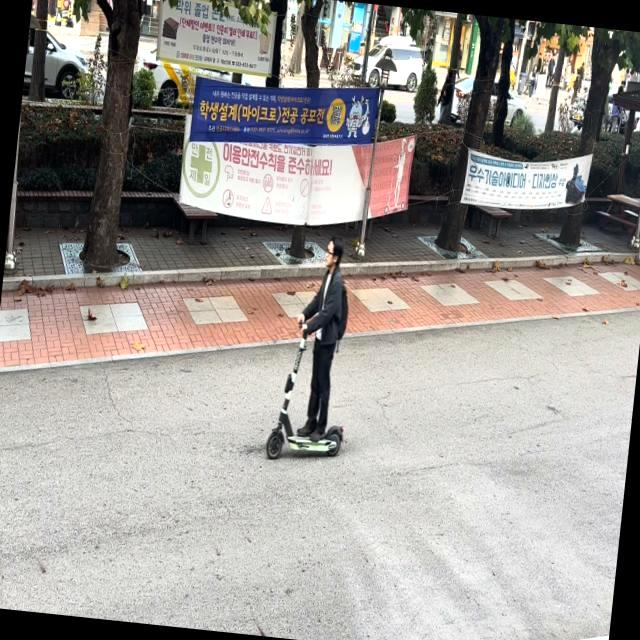bare_head: (319, 228, 346, 271)
human: (303, 227, 342, 443)
kickboard: (249, 419, 343, 467)
